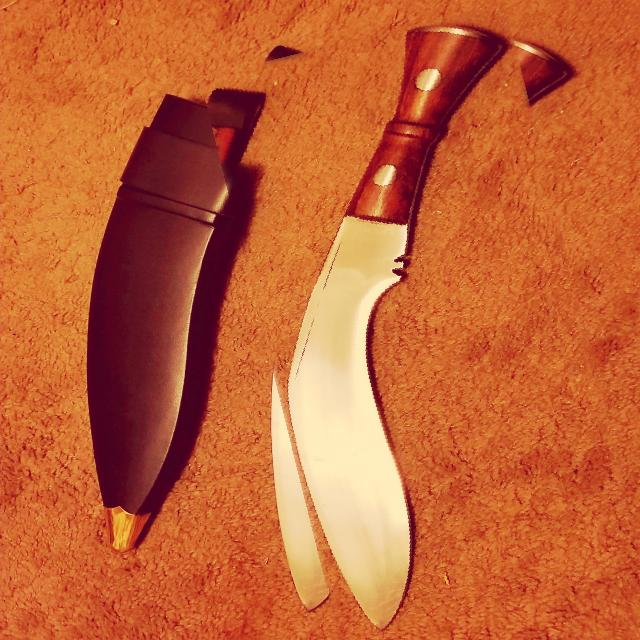knife: (233, 16, 613, 628)
